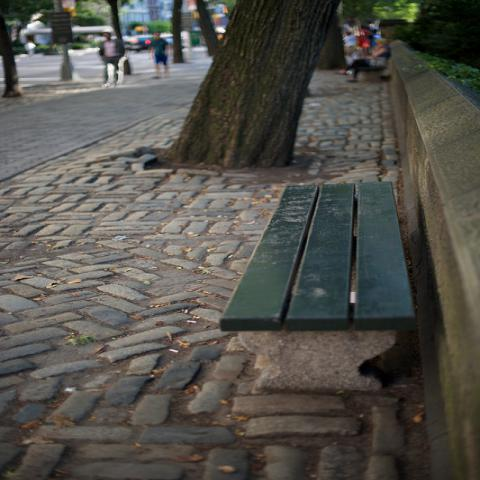car: (129, 34, 153, 52)
